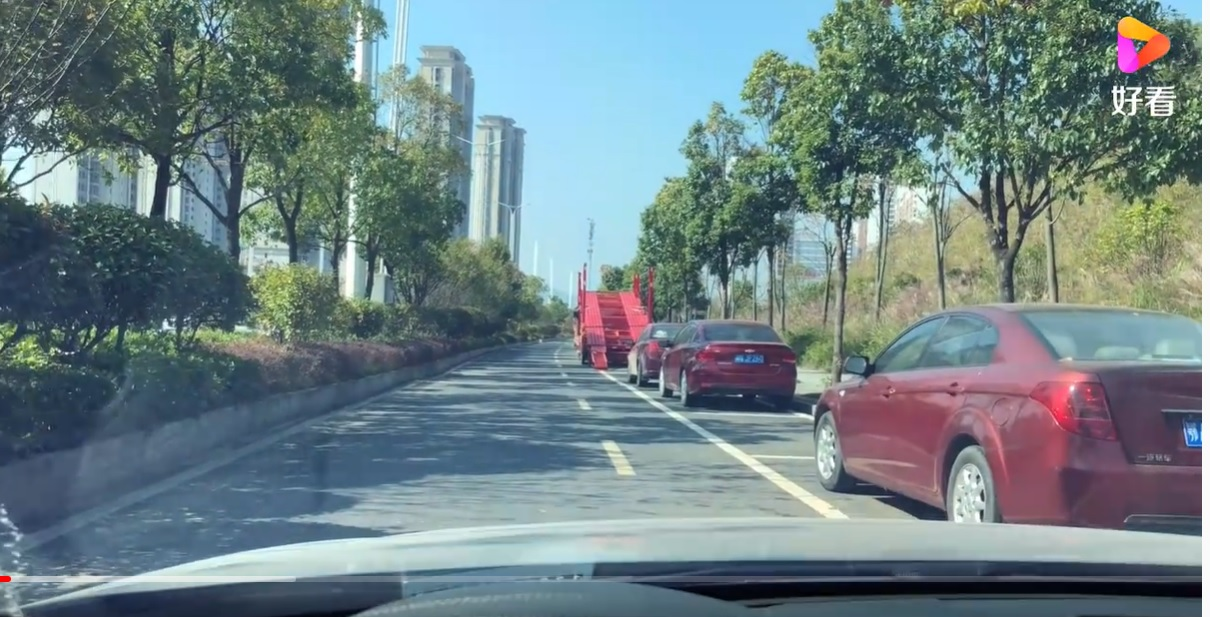slot_nocar: (654, 379, 890, 478)
